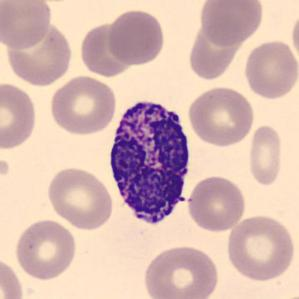Basophil: (104, 91, 195, 236)
RBC: (2, 17, 75, 88), (223, 212, 297, 282), (45, 164, 115, 230), (185, 84, 256, 148), (47, 73, 119, 136), (141, 243, 222, 299), (13, 217, 78, 282), (104, 7, 167, 67), (185, 173, 248, 233), (188, 16, 246, 80), (242, 38, 298, 100), (197, 0, 265, 48), (80, 21, 134, 80), (0, 80, 39, 151), (0, 0, 54, 50), (246, 123, 285, 188), (0, 254, 25, 299), (289, 8, 299, 65), (270, 289, 299, 299)
